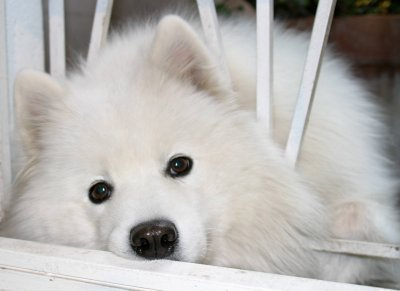dog: (1, 12, 399, 277)
